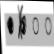correct: (6, 15, 14, 36)
not correct: (17, 3, 27, 42)
